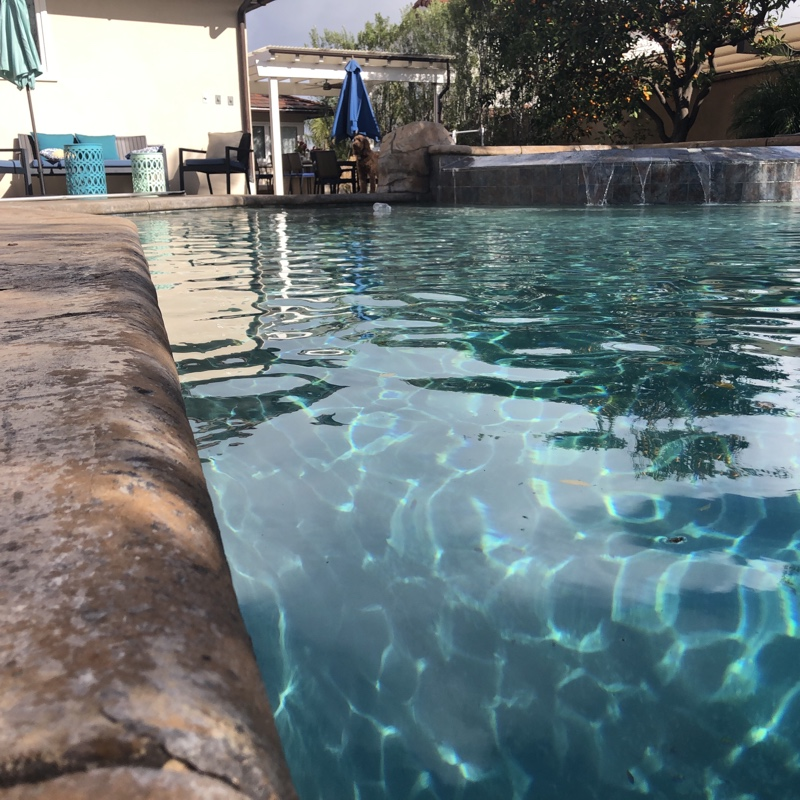Plastic Bottle: (369, 199, 392, 220)
